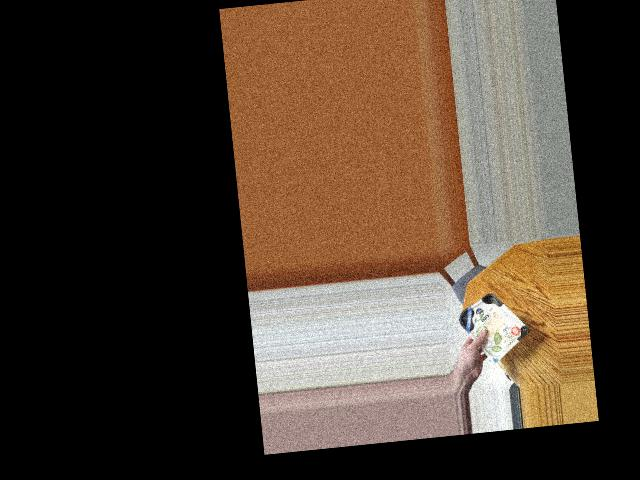cheese: (455, 290, 525, 355)
